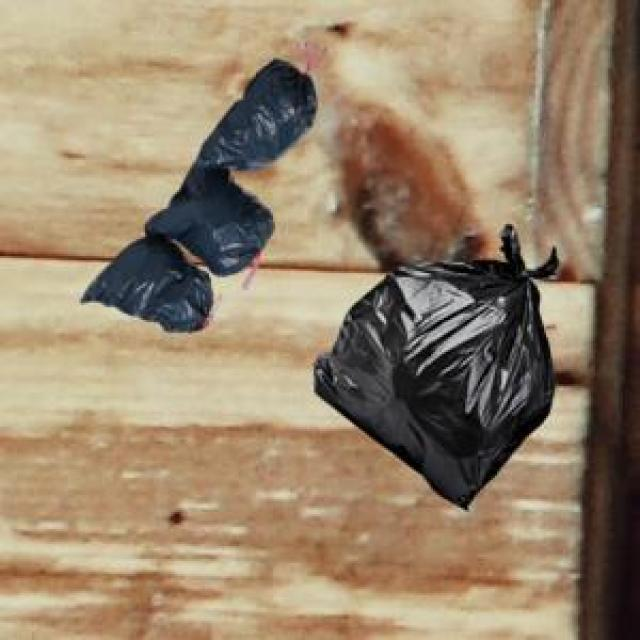waste: (314, 225, 558, 507), (81, 60, 315, 332)
